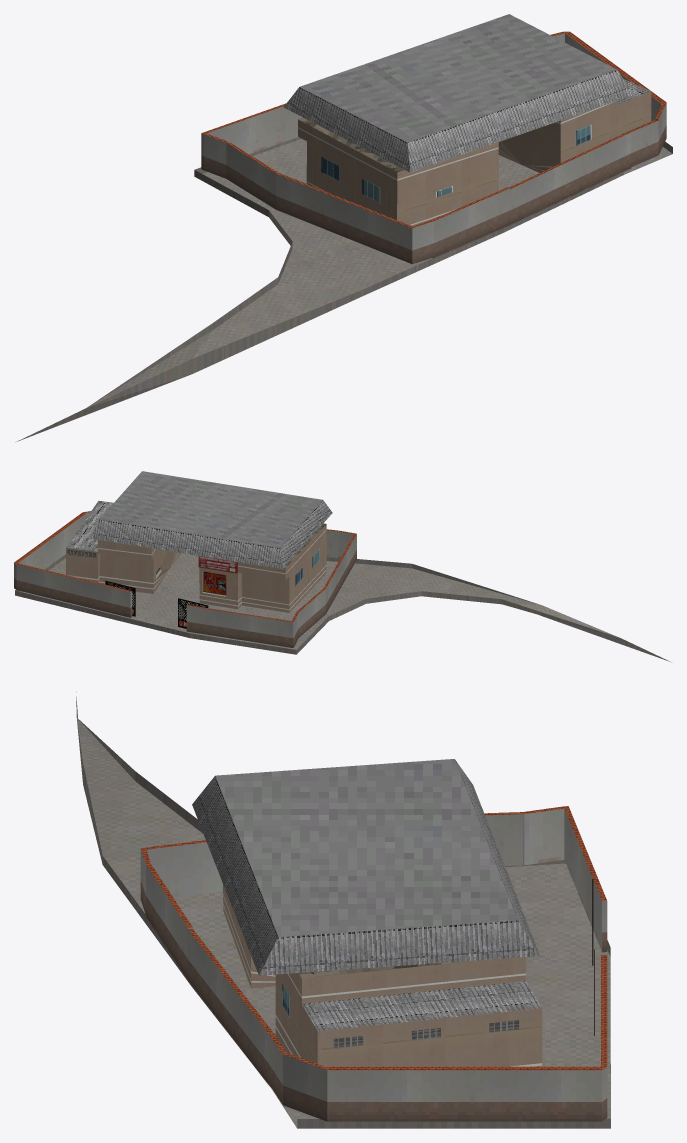
File: lodoffbloka_lan.obj
3 views of the same model, one above another, from view 1: azimuth 30°, elevation 25°; view 2: azimuth 150°, elevation 25°; view 3: azimuth 270°, elevation 25° (orthographic). The views are drawn at different scales.
Visible parts, largest first — view 1: LODoffblokA_LAn; view 2: LODoffblokA_LAn; view 3: LODoffblokA_LAn.
Part boxes in pixels (left/top/right/bottom): LODoffblokA_LAn: left=15, top=14, right=672, bottom=442; LODoffblokA_LAn: left=14, top=471, right=671, bottom=662; LODoffblokA_LAn: left=76, top=692, right=610, bottom=1128.
Size of the model in its own units: 93.36 by 18.87 by 40.98.
Materials: 23 (22 with a texture image).
